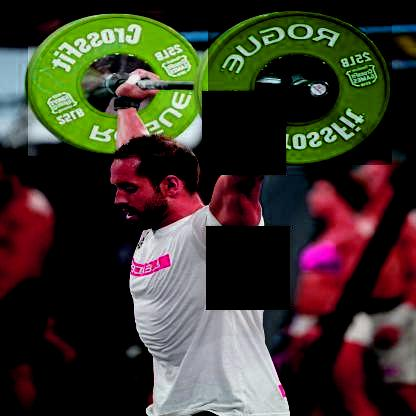barbell: (198, 11, 391, 166), (27, 12, 206, 157)
